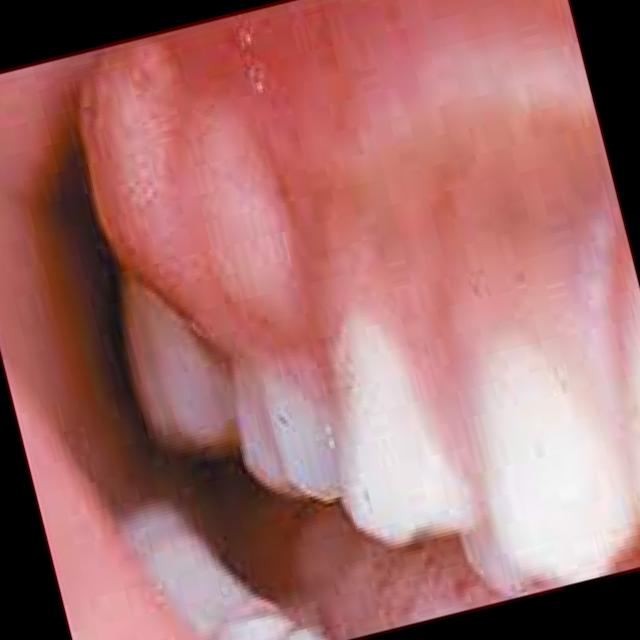abscess: (30, 0, 377, 440)
